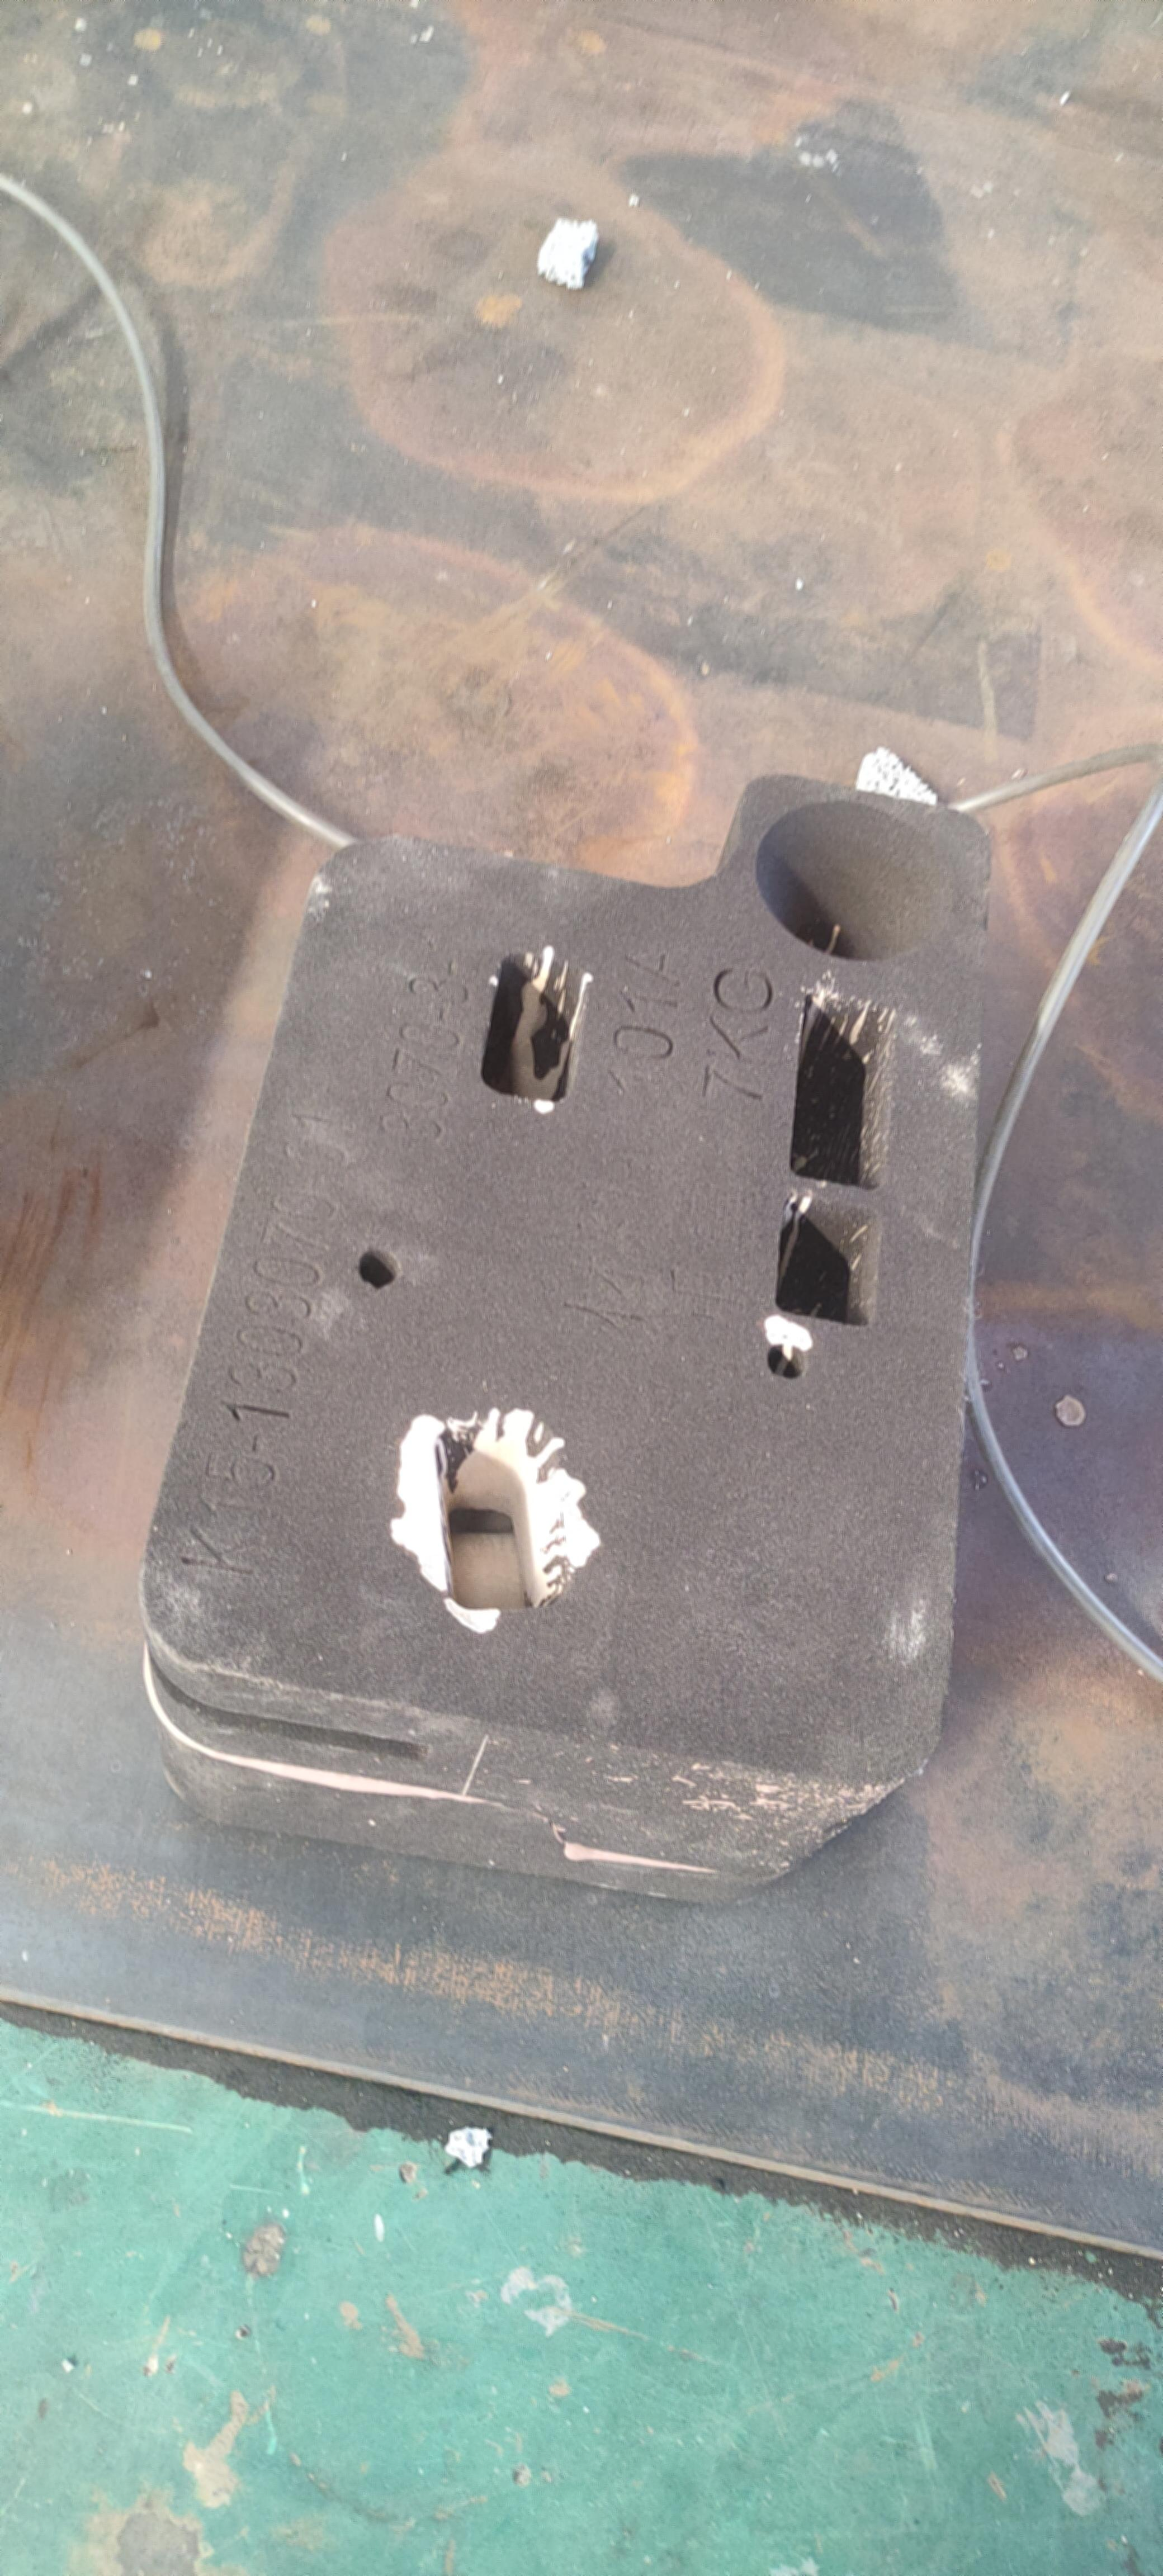pouring hole: (749, 798, 946, 964)
